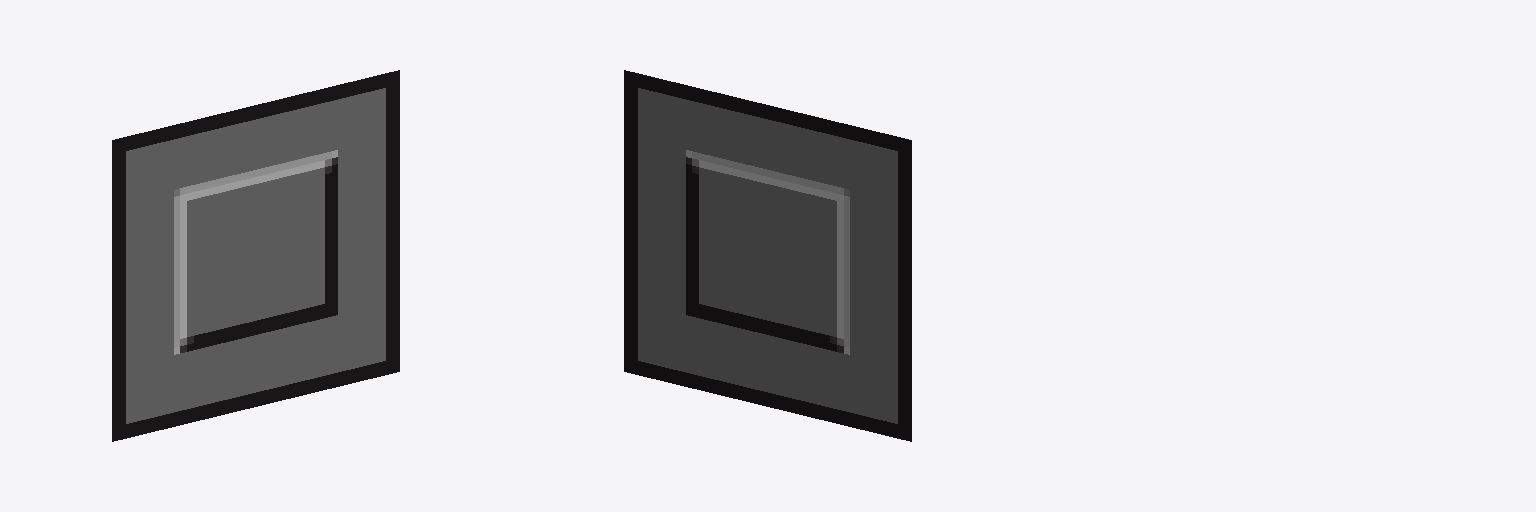
3 views of the same model, side by side, from view 1: azimuth 30°, elevation 25°; view 2: azimuth 150°, elevation 25°; view 3: azimuth 270°, elevation 25° (orthographic).
Parts seen in each view (by area): view 1: DarkGrey; view 2: DarkGrey; view 3: none.
Part boxes in pixels (bbox=[...]): DarkGrey: bbox=[112, 70, 399, 441]; DarkGrey: bbox=[624, 70, 911, 441].
Bounding box in the file's own units: 1 × 1 × 0.
Materials: 1 (1 with a texture image).